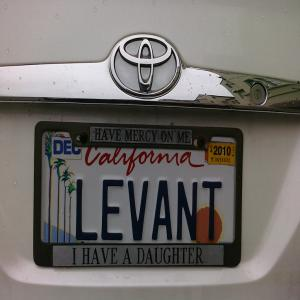Vehicle-registration-plate: (34, 125, 248, 270)
